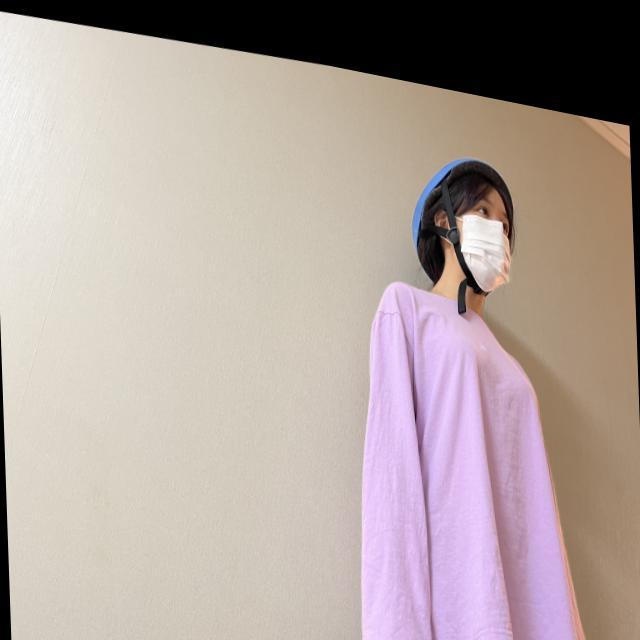Helmet: (411, 157, 517, 297)
